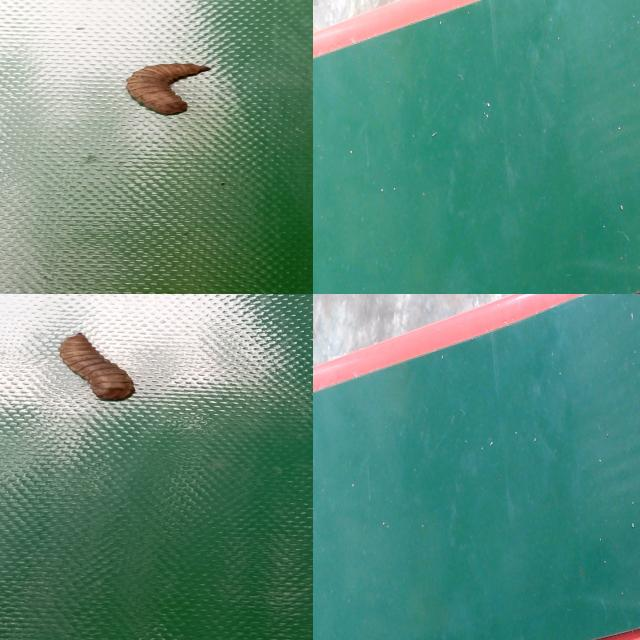Maggot: (58, 333, 136, 404), (124, 63, 208, 119)
